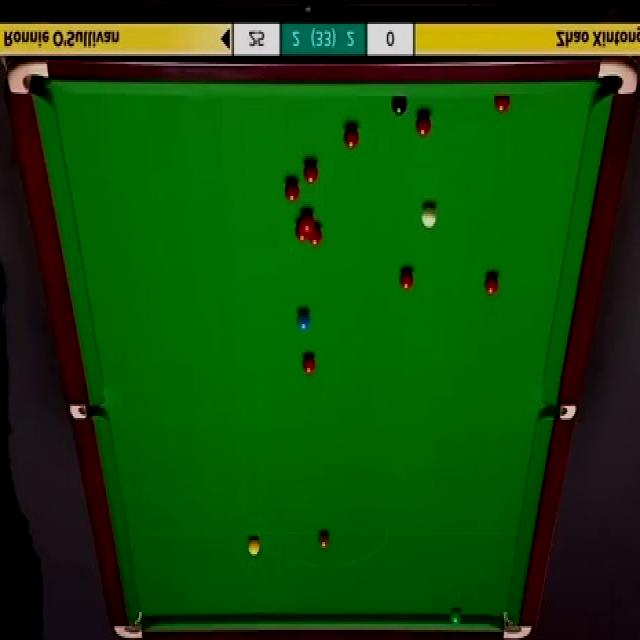black-ball: (391, 96, 408, 116)
blue-ball: (296, 306, 311, 332)
brown-ball: (317, 528, 331, 552)
green-ball: (450, 607, 462, 627)
red-ball: (302, 158, 319, 186), (414, 112, 432, 137), (342, 125, 360, 149), (284, 176, 300, 202), (302, 352, 316, 378), (400, 268, 415, 292), (485, 272, 499, 296), (493, 96, 511, 114), (300, 212, 314, 234), (308, 227, 322, 246), (296, 226, 308, 242)
white-ball: (421, 203, 438, 230)
yellow-ball: (247, 535, 260, 559)
